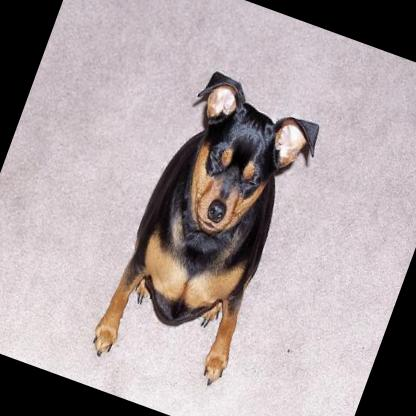miniature_pinscher: (86, 57, 332, 403)
